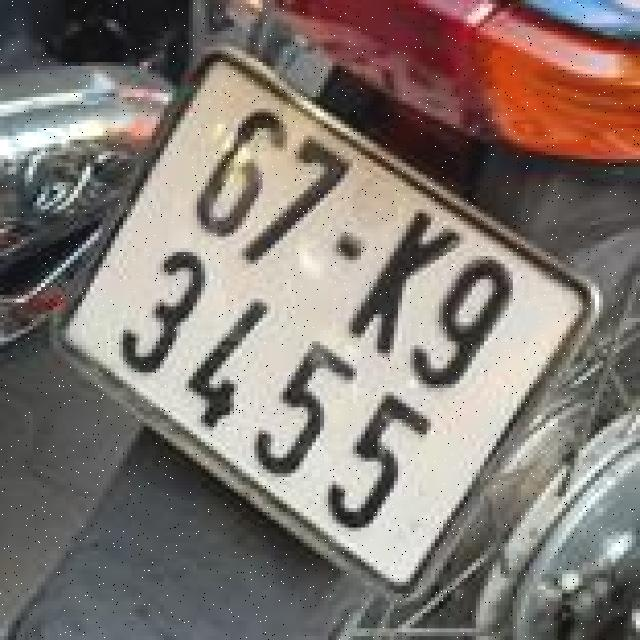3: (103, 236, 224, 384)
4: (170, 284, 301, 439)
5: (314, 376, 448, 550), (239, 326, 375, 497)
6: (179, 100, 306, 249)
7: (228, 125, 364, 280)
9: (398, 240, 534, 407)
K: (336, 197, 476, 372)
